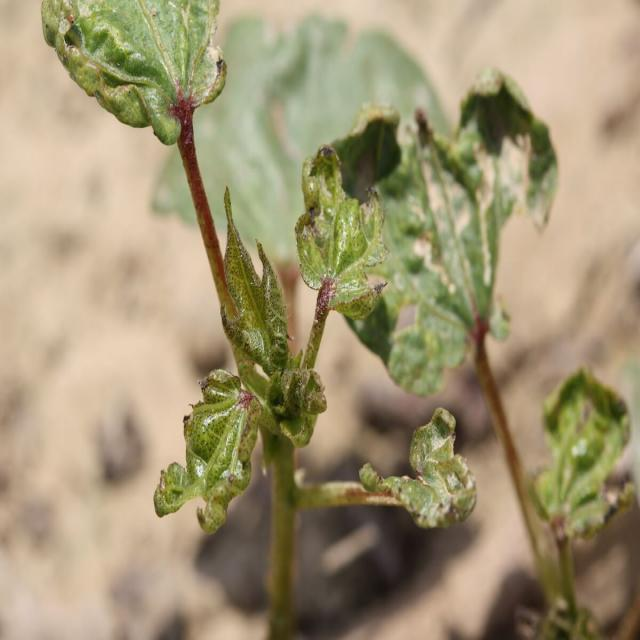Thrip-Group-: (150, 374, 278, 530), (292, 132, 392, 316), (215, 177, 292, 389)
